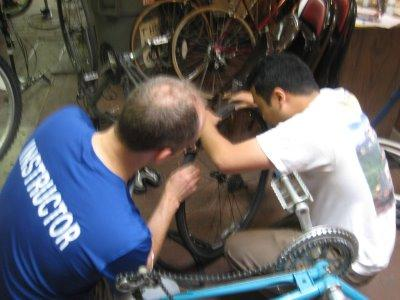person: (192, 51, 399, 290)
